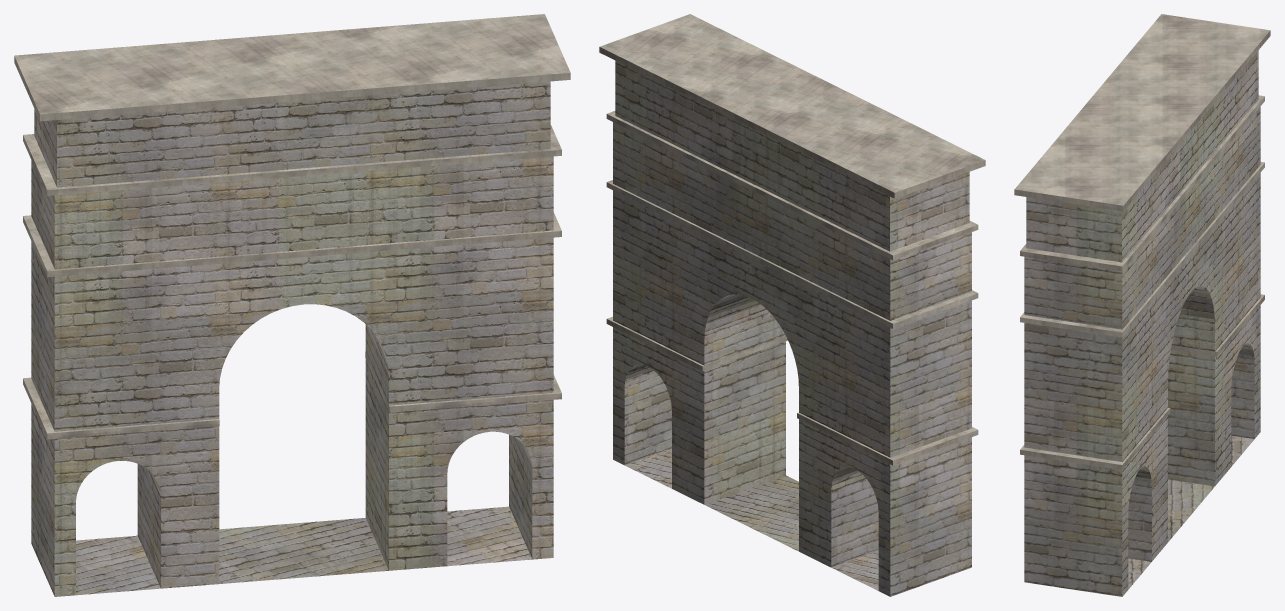
File: porte-saint-martin.glb
3 views of the same model, side by side, from view 1: azimuth 30°, elevation 25°; view 2: azimuth 150°, elevation 25°; view 3: azimuth 270°, elevation 25° (orthographic). The views are drawn at different scales.
Visible parts, largest first — view 1: stone, trim; view 2: stone, trim; view 3: stone, trim.
Boxes of the visible parts, x1=… form: stone: x1=31, y1=81, x2=553, y2=596; trim: x1=14, y1=14, x2=570, y2=439; stone: x1=613, y1=60, x2=971, y2=596; trim: x1=599, y1=14, x2=985, y2=465; stone: x1=1024, y1=50, x2=1260, y2=596; trim: x1=1014, y1=14, x2=1270, y2=469.
Size of the model in its own units: 18.63 by 18 by 10.51.
2 materials, 2 textured.
